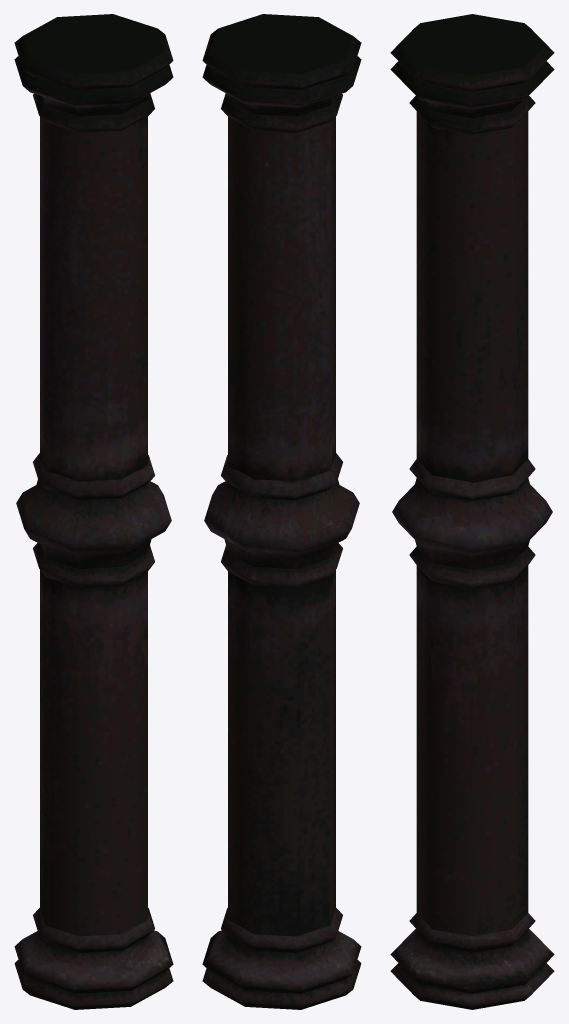
Rendered from 42_pillar02.dae.
3 renders of one model, left to right at view 1: azimuth 30°, elevation 25°; view 2: azimuth 150°, elevation 25°; view 3: azimuth 270°, elevation 25°, orthographic.
Parts seen in each view (by area): view 1: pillar02; view 2: pillar02; view 3: pillar02.
Boxes of the visible parts, x1,y1,x2,y2 form: pillar02: (14,14,173,1009); pillar02: (202,14,361,1009); pillar02: (390,14,554,1009).
Bounding box in the file's own units: 0.638 × 4 × 0.638.
1 material, 1 textured.
